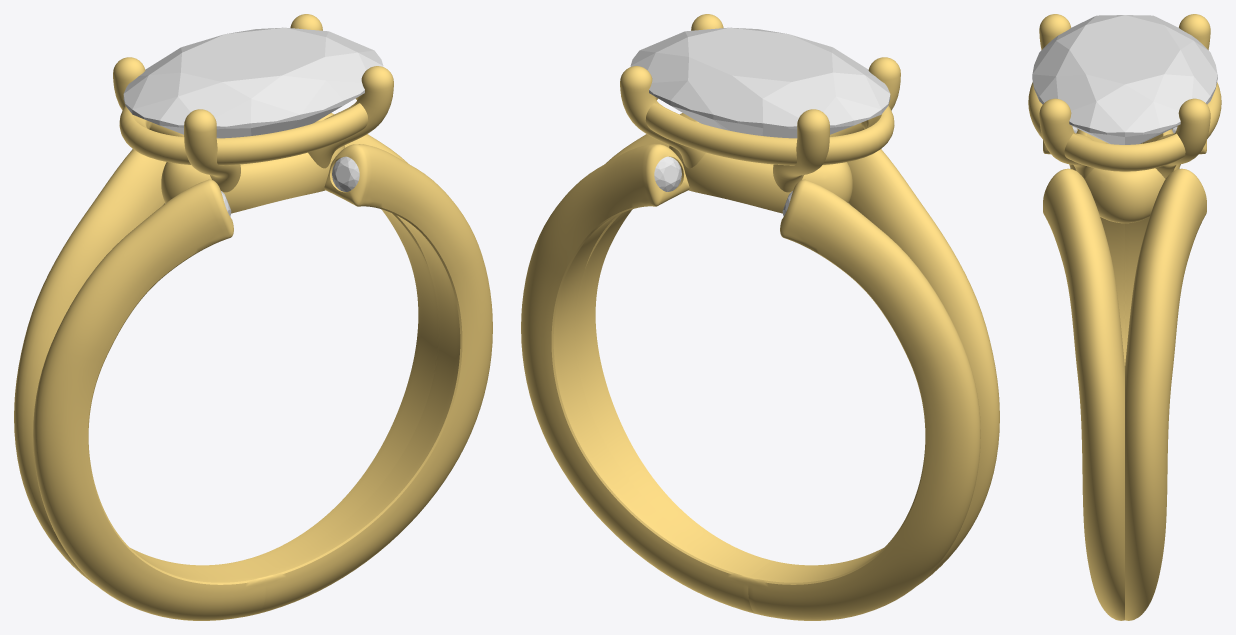
Rendered from JonathanV3engYG_blender.glb.
3 views of the same model, side by side, from view 1: azimuth 30°, elevation 25°; view 2: azimuth 150°, elevation 25°; view 3: azimuth 270°, elevation 25° (orthographic). The views are drawn at different scales.
Parts seen in each view (by area): view 1: V3 Jonathan YG for 3d model, V3 Jonathan dia for 3d model.004, V3 Jonathan dia for 3d model.002; view 2: V3 Jonathan YG for 3d model, V3 Jonathan dia for 3d model.004, V3 Jonathan dia for 3d model.001; view 3: V3 Jonathan YG for 3d model, V3 Jonathan dia for 3d model.004.
Boxes of the visible parts, x1,y1,x2,y2 form: V3 Jonathan YG for 3d model: [14, 14, 492, 620]; V3 Jonathan dia for 3d model.004: [123, 27, 383, 138]; V3 Jonathan dia for 3d model.002: [332, 156, 359, 191]; V3 Jonathan YG for 3d model: [521, 14, 999, 620]; V3 Jonathan dia for 3d model.004: [630, 27, 890, 138]; V3 Jonathan dia for 3d model.001: [654, 156, 681, 191]; V3 Jonathan YG for 3d model: [1028, 14, 1221, 620]; V3 Jonathan dia for 3d model.004: [1032, 15, 1217, 144].
Size of the model in its own units: 19.29 by 22.57 by 7.22.
